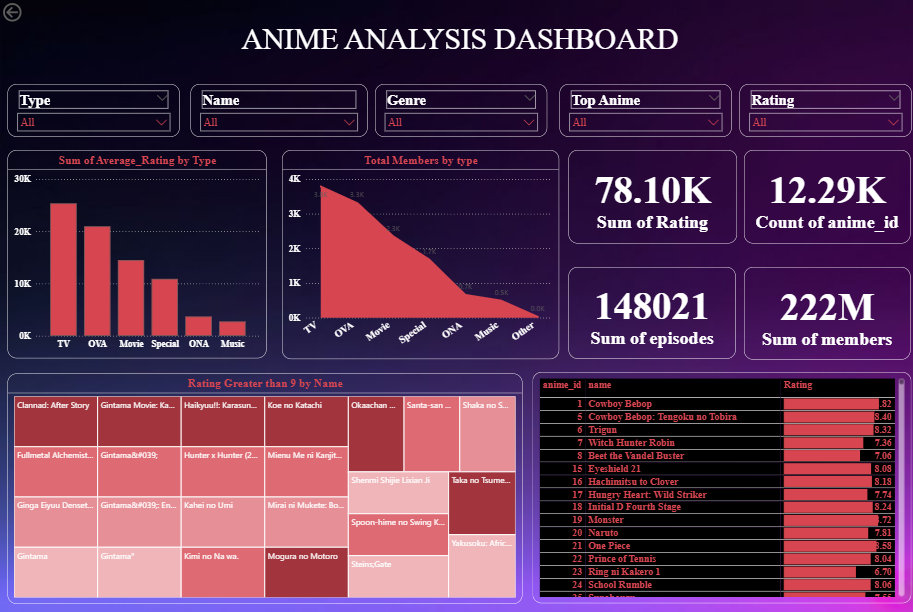

This screenshot's page, from the dashboard's own definition file:
{"tool":"powerbi","page":{"name":"Page 1","canvas":[1500,1000],"ordinal":0},"visuals":[{"type":"textbox","box":[12.3,30.8,1470.8,67.7],"z":0},{"type":"clusteredColumnChart","title":"Sum of Average_Rating by Type","fields":{"Category":["anime (2).type"],"Y":["Sum(anime (2).rating)"]},"box":[12.3,244.6,421.5,338.5],"z":1000},{"type":"tableEx","title":"Sum of Average_Rating by Type","fields":{"Values":["anime.anime_id","anime.name","anime.Rating"]},"box":[865.7,605.7,615.7,375.7],"z":2000},{"type":"treemap","title":"Rating Greater than 9 by Name","fields":{"Group":["anime.name"],"Values":["CountNonNull(anime.Rating)"]},"box":[11.9,606.8,837.3,374.6],"z":3000},{"type":"areaChart","title":"Total Members by type","fields":{"Category":["anime.type"],"Y":["CountNonNull(anime.members)"]},"box":[458.5,243.1,450.8,340],"z":4000},{"type":"card","fields":{"Values":["Sum(anime.Rating)"]},"box":[924.6,244.6,273.8,152.3],"z":5000},{"type":"card","fields":{"Values":["Sum(anime.episodes)"]},"box":[924.6,433.8,272.3,149.2],"z":6000},{"type":"card","fields":{"Values":["CountNonNull(anime.anime_id)"]},"box":[1210.8,244.6,270.8,152.3],"z":7000},{"type":"card","fields":{"Values":["Sum(anime.members)"]},"box":[1210.8,433.8,270.8,150.8],"z":8000},{"type":"actionButton","box":[0,0,100,40],"z":9000},{"type":"slicer","fields":{"Values":["anime.type"]},"box":[12.3,135.4,280,86.2],"z":10000},{"type":"slicer","fields":{"Values":["anime.genre"]},"box":[610.8,135.4,280,86.2],"z":11000},{"type":"slicer","fields":{"Values":["anime.name"]},"box":[310.8,135.4,287.7,86.2],"z":12000},{"type":"slicer","fields":{"Values":["anime.Top Anime"]},"box":[909.2,135.4,280,86.2],"z":13000},{"type":"slicer","fields":{"Values":["anime.Rating"]},"box":[1201.5,135.4,280,86.2],"z":14000}]}

Visuals, with their boxes in screenshot pixels (x1, y1, x2, y2), scaled from the page's 1500x1000 canvas onto the 913x612 screenshot:
textbox: (left=7, top=19, right=903, bottom=60)
"Sum of Average_Rating by Type" clusteredColumnChart: (left=7, top=150, right=264, bottom=357)
"Sum of Average_Rating by Type" tableEx: (left=527, top=371, right=902, bottom=601)
"Rating Greater than 9 by Name" treemap: (left=7, top=371, right=517, bottom=601)
"Total Members by type" areaChart: (left=279, top=149, right=553, bottom=357)
card - Sum(anime.Rating): (left=563, top=150, right=729, bottom=243)
card - Sum(anime.episodes): (left=563, top=265, right=729, bottom=357)
card - CountNonNull(anime.anime_id): (left=737, top=150, right=902, bottom=243)
card - Sum(anime.members): (left=737, top=265, right=902, bottom=358)
actionButton: (left=0, top=0, right=61, bottom=24)
slicer - anime.type: (left=7, top=83, right=178, bottom=136)
slicer - anime.genre: (left=372, top=83, right=542, bottom=136)
slicer - anime.name: (left=189, top=83, right=364, bottom=136)
slicer - anime.Top Anime: (left=553, top=83, right=724, bottom=136)
slicer - anime.Rating: (left=731, top=83, right=902, bottom=136)
